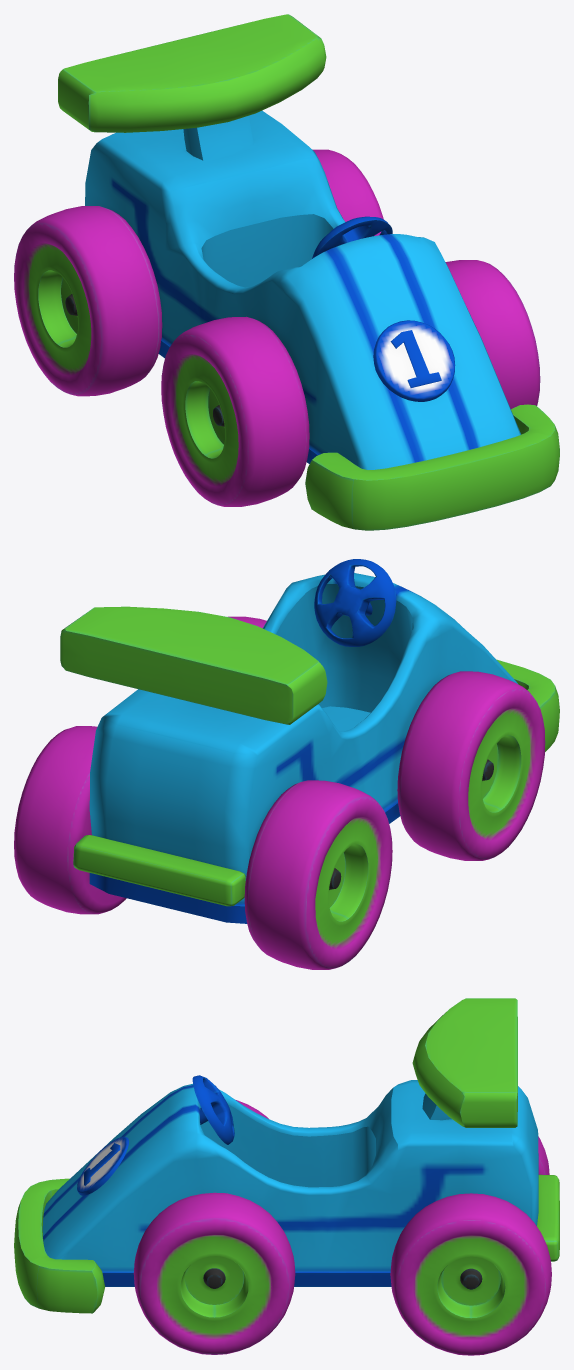
Rendered from mini_race_car.glb.
The picture shows the model from 3 angles, top to bottom: view 1: azimuth 30°, elevation 25°; view 2: azimuth 150°, elevation 25°; view 3: azimuth 270°, elevation 25°; orthographic projection. The views are drawn at different scales.
Visible parts, largest first — view 1: Mini_Race_Car.1; view 2: Mini_Race_Car.1; view 3: Mini_Race_Car.1.
Boxes of the visible parts, bbox=[...] form: Mini_Race_Car.1: bbox=[14, 14, 559, 530]; Mini_Race_Car.1: bbox=[14, 559, 559, 969]; Mini_Race_Car.1: bbox=[14, 998, 559, 1355].
Size of the model in its own units: 0.109 by 0.1041 by 0.2013.
1 material, 1 textured.
